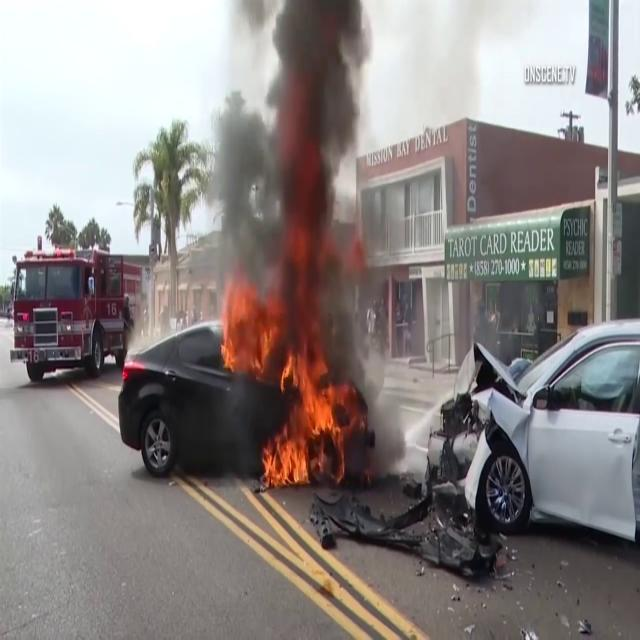Fire: (213, 270, 346, 486)
Smoke: (184, 0, 401, 323)
